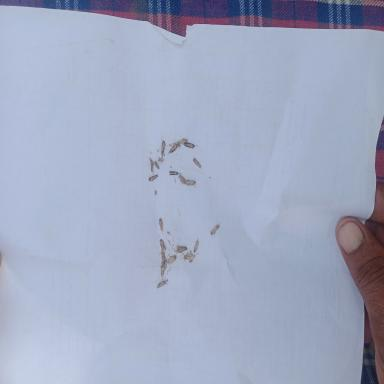pbw: (166, 143, 180, 156), (173, 241, 186, 254), (210, 224, 220, 236), (161, 136, 166, 159), (174, 138, 188, 146), (157, 278, 168, 288), (166, 253, 176, 264), (185, 178, 196, 188), (192, 157, 202, 168), (159, 239, 166, 254), (182, 252, 195, 260), (177, 174, 186, 185), (182, 142, 198, 148), (149, 158, 154, 175), (148, 174, 158, 182), (159, 251, 166, 262), (158, 218, 163, 233), (193, 240, 198, 252), (154, 160, 160, 170), (160, 263, 164, 277), (169, 171, 178, 175)
